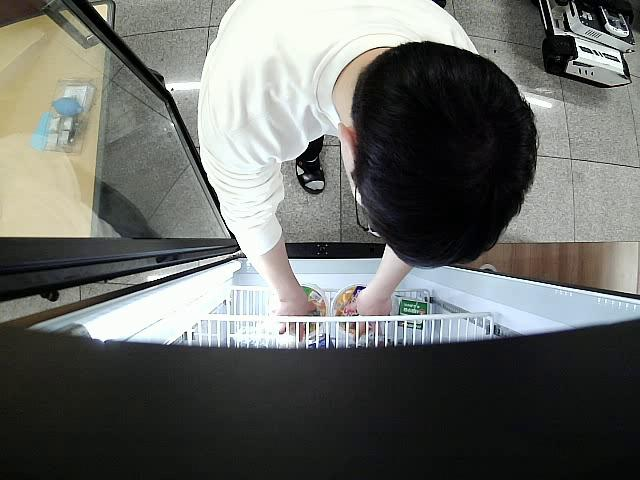00_hand: (345, 287, 393, 340), (271, 291, 317, 341)
09_yukGaeJang: (275, 286, 327, 337), (333, 284, 374, 333)
